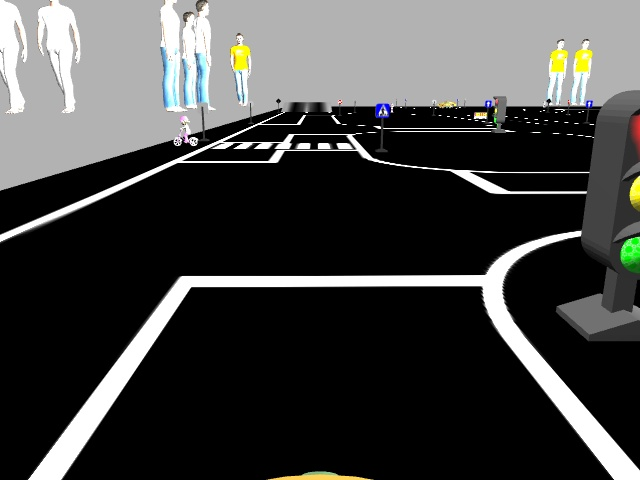Crosswalk: (376, 104, 390, 117)
Pedestrian: (172, 114, 198, 145)
TrafficLight: (584, 90, 639, 265)
